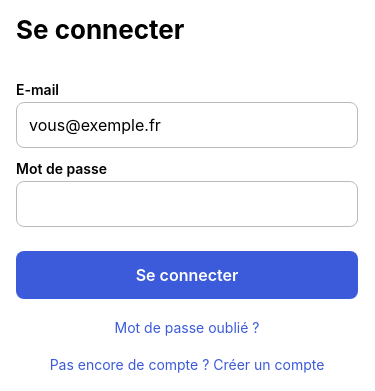
Test: Inscription (mobile) › affiche une erreur si le serveur est injoignable
Step 1. Click the link with test id "to-register" → (187, 364), box top-left (50, 356), bottom-right (324, 372)
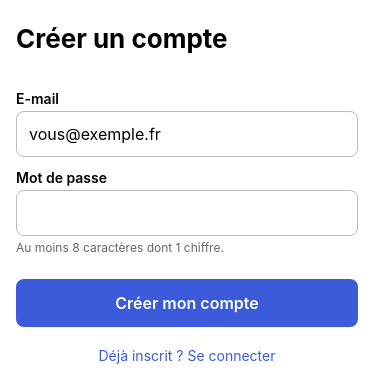
Expected: the heading "Créer un compte" is shown, top-left (16, 22), bottom-right (228, 54)
Step 2. Type "alice@example.com" into the field with test id "email" → (187, 134), box top-left (16, 110), bottom-right (358, 156)
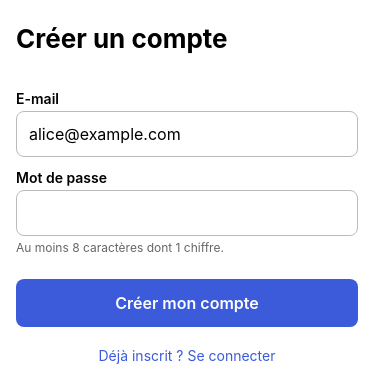
Step 3. Type "motdepasse1" into the password field with test id "password" → (187, 212), box top-left (16, 190), bottom-right (358, 236)
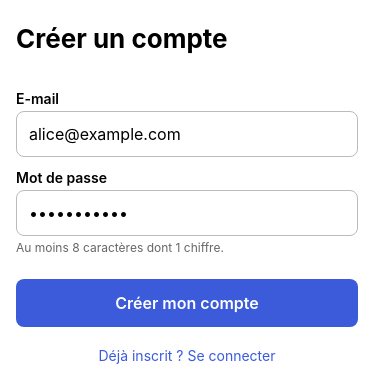
Step 4. Click the button with test id "submit" → (187, 302), box top-left (16, 278), bottom-right (358, 326)
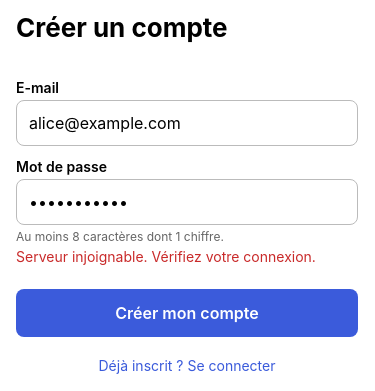
Expected: the message with test id "server-error" shows "injoignable", top-left (16, 248), bottom-right (316, 265)
